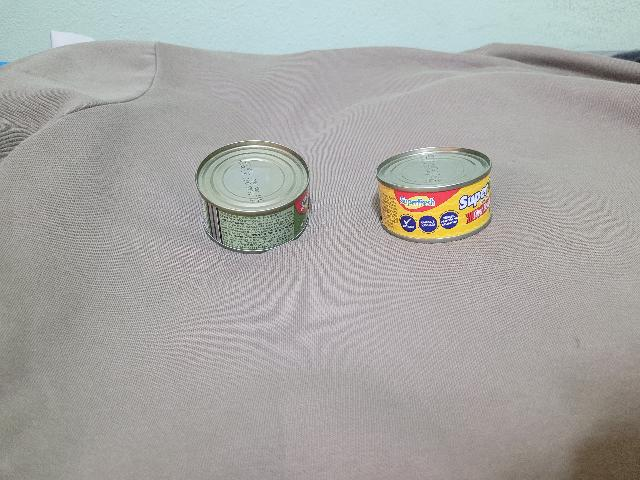Metal: (363, 136, 499, 242), (186, 141, 317, 247)
